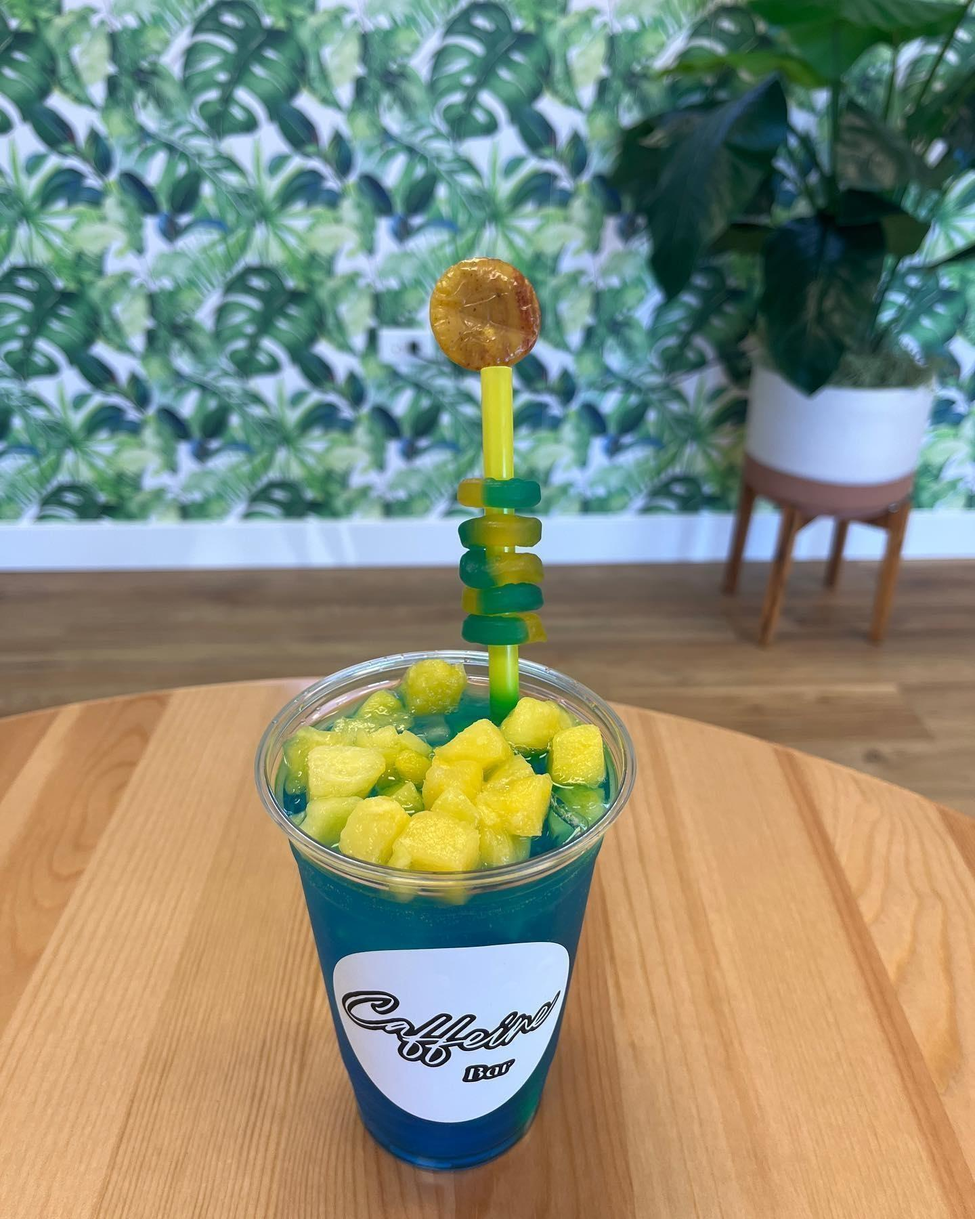cup-disposable: (261, 637, 648, 1186)
